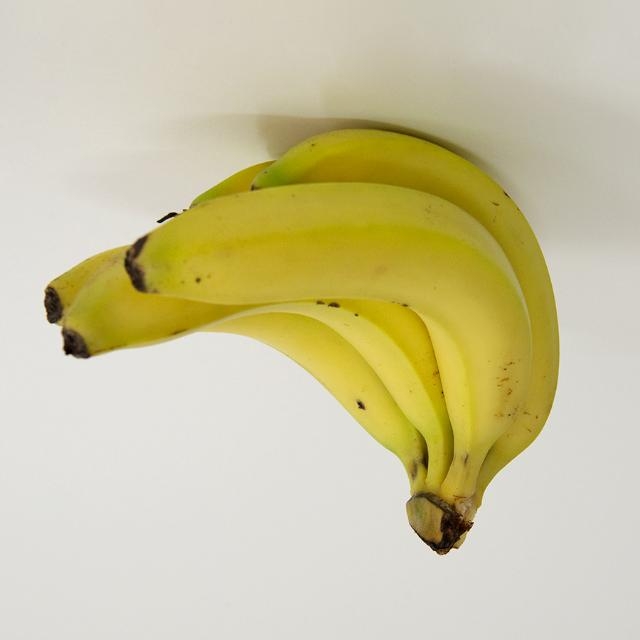Bananas: (44, 126, 558, 554)
